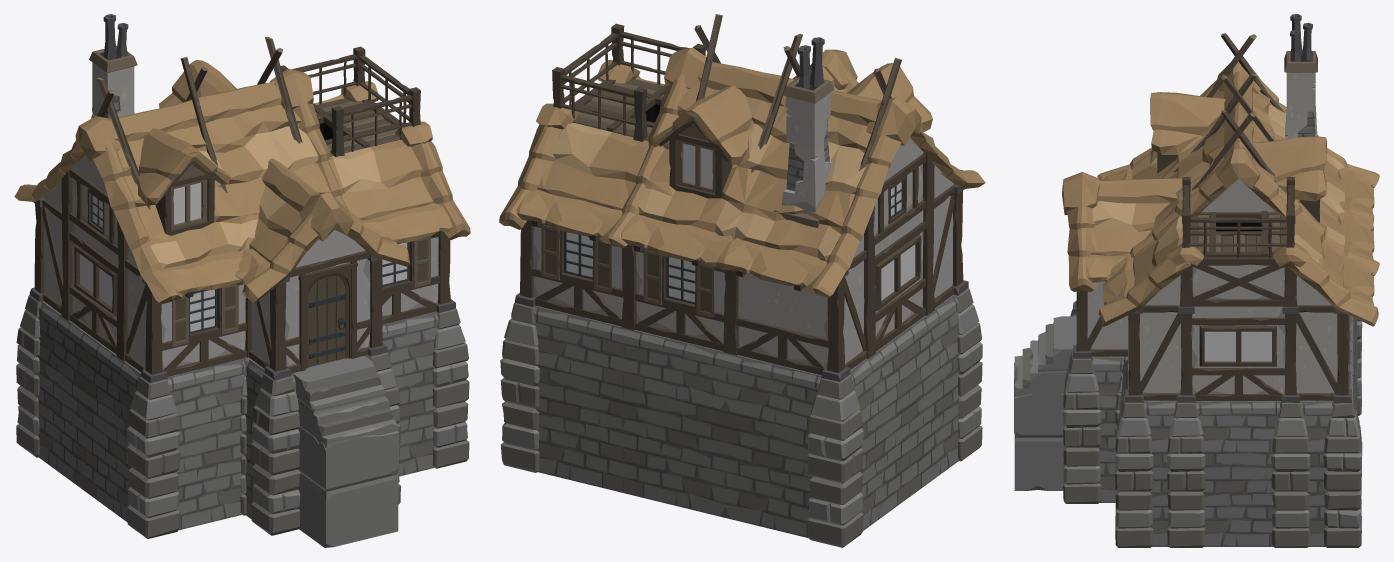
Rendered from SM_Bld_Preset_House_09_B_Optimized.fbx.
3 renders of one model, left to right at view 1: azimuth 30°, elevation 25°; view 2: azimuth 150°, elevation 25°; view 3: azimuth 270°, elevation 25°, orthographic. The views are drawn at different scales.
Visible parts, largest first — view 1: SM_Bld_Preset_House_09_B_Optimized, SM_Bld_Preset_House_09_B_Glass_Optimized; view 2: SM_Bld_Preset_House_09_B_Optimized, SM_Bld_Preset_House_09_B_Glass_Optimized; view 3: SM_Bld_Preset_House_09_B_Optimized, SM_Bld_Preset_House_09_B_Glass_Optimized.
Part boxes in pixels (x1,y1,x2,y2): SM_Bld_Preset_House_09_B_Optimized: (14, 14, 470, 547); SM_Bld_Preset_House_09_B_Glass_Optimized: (80, 182, 407, 331); SM_Bld_Preset_House_09_B_Optimized: (499, 14, 985, 547); SM_Bld_Preset_House_09_B_Glass_Optimized: (566, 143, 915, 302); SM_Bld_Preset_House_09_B_Optimized: (1014, 14, 1379, 547); SM_Bld_Preset_House_09_B_Glass_Optimized: (1204, 331, 1271, 361).
Size of the model in its own units: 847 by 1091 by 878.
